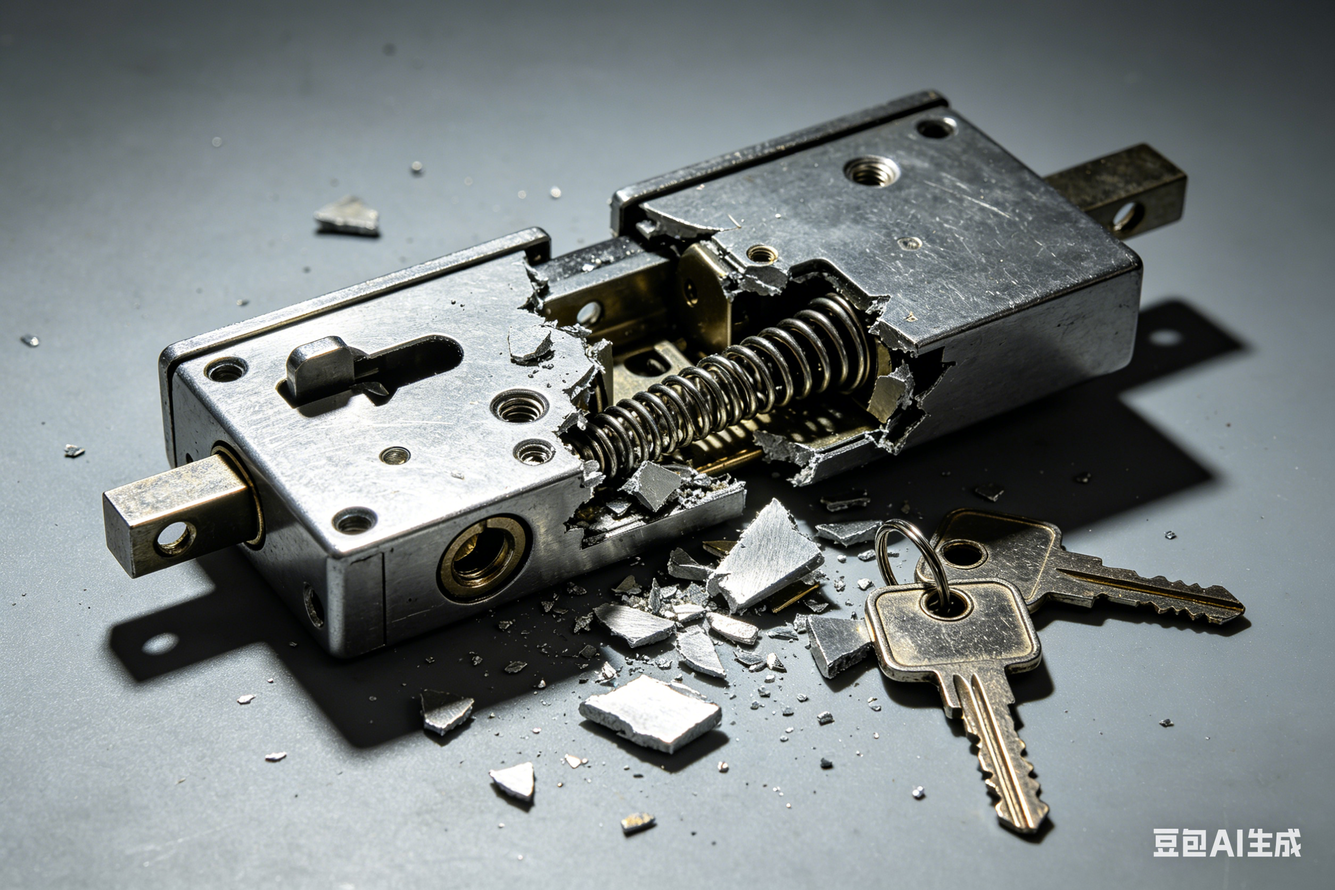BadLock: (524, 304, 895, 467), (579, 477, 778, 548)
